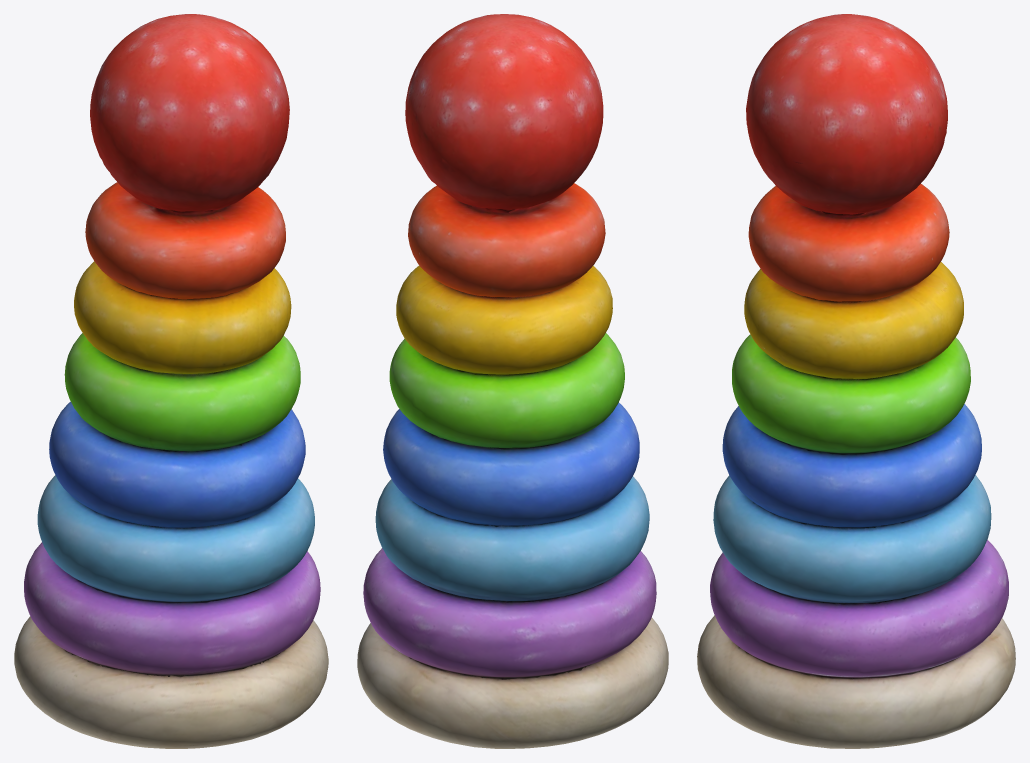
File: STACKING_RING.glb
3 views of the same model, side by side, from view 1: azimuth 30°, elevation 25°; view 2: azimuth 150°, elevation 25°; view 3: azimuth 270°, elevation 25° (orthographic).
Visible parts, largest first — view 1: STACKING_RING; view 2: STACKING_RING; view 3: STACKING_RING.
Boxes of the visible parts, box(x1,y1,x2,y2) form: STACKING_RING: box(14, 14, 328, 748); STACKING_RING: box(357, 14, 668, 748); STACKING_RING: box(697, 14, 1015, 748).
Bounding box in the file's own units: 0.0791 × 0.1874 × 0.0799.
Materials: 1 (1 with a texture image).
